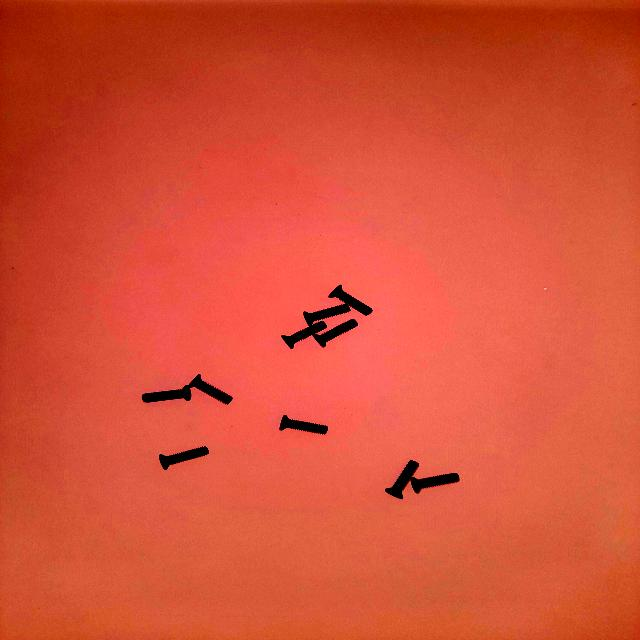Screws: (280, 286, 373, 351), (141, 375, 237, 407), (331, 284, 375, 317), (157, 446, 213, 470), (279, 415, 334, 439), (387, 461, 418, 498), (141, 386, 193, 404), (412, 474, 456, 491)
